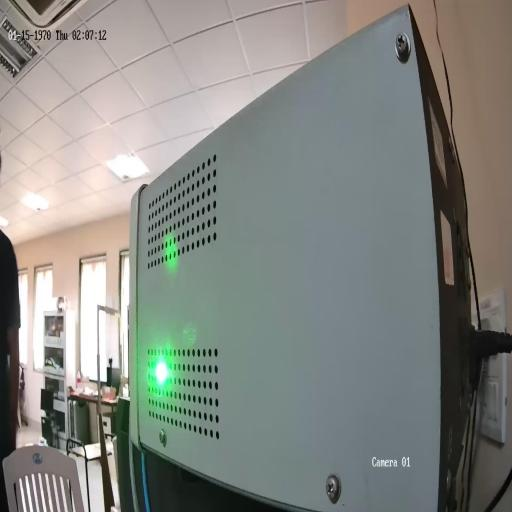laser: (154, 357, 169, 388)
